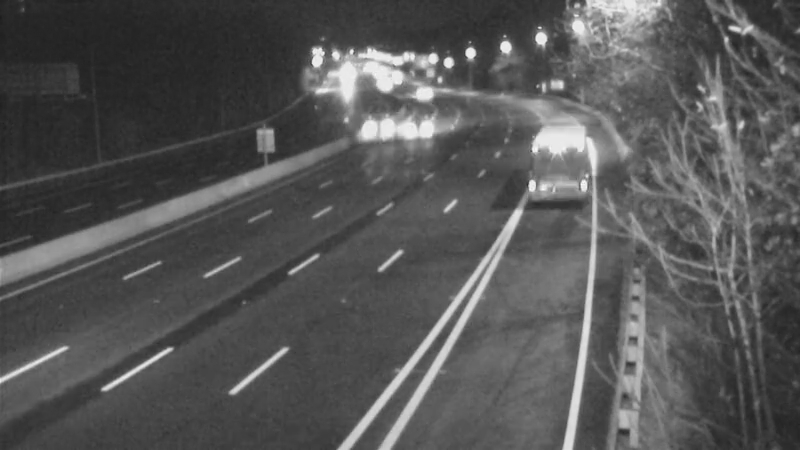vehicle: (516, 122, 596, 202), (400, 70, 450, 120), (395, 99, 445, 149), (349, 100, 399, 150)
